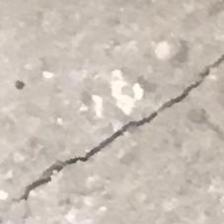Crack: (34, 30, 224, 224)
